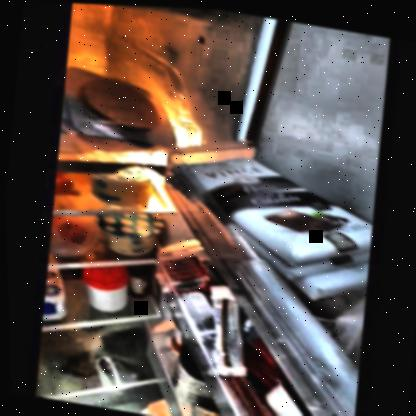chocolate: (173, 145, 376, 289)
milk: (38, 268, 75, 325)
salami: (59, 66, 173, 140)
tomato: (58, 216, 91, 247)
yoghurt: (95, 207, 162, 257), (91, 167, 153, 209)
